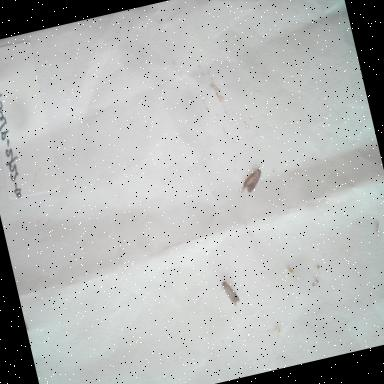pbw: (232, 162, 268, 201), (219, 272, 244, 311)
